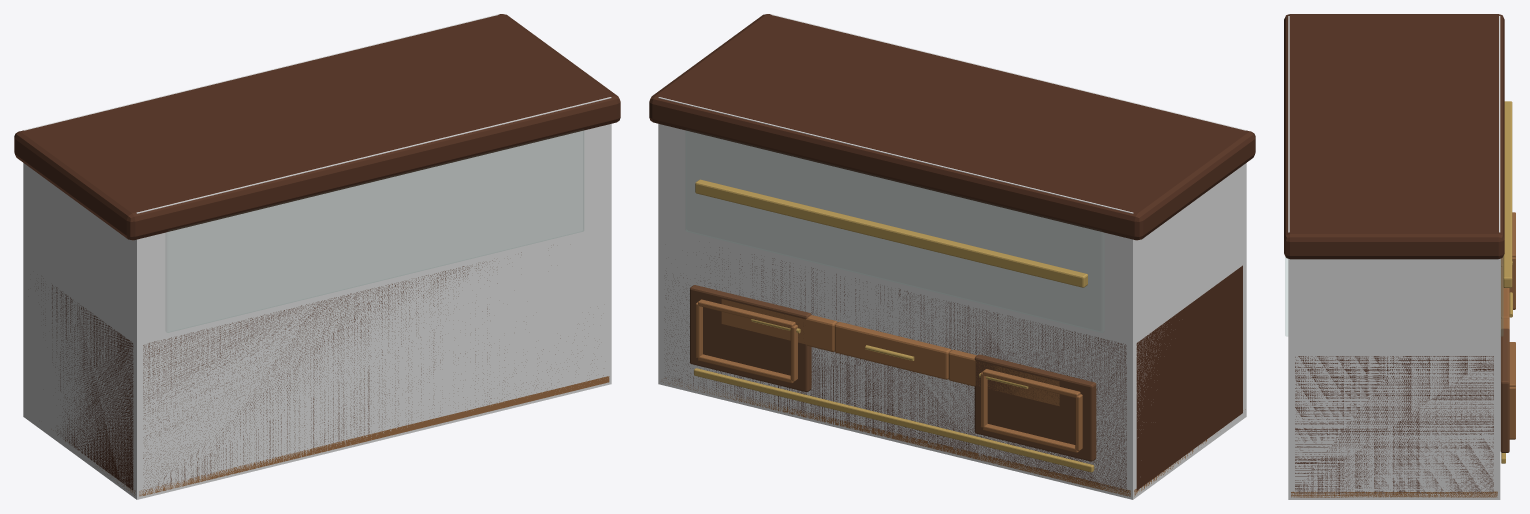
The model's file is executive.glb.
3 renders of one model, left to right at view 1: azimuth 30°, elevation 25°; view 2: azimuth 150°, elevation 25°; view 3: azimuth 270°, elevation 25°, orthographic. The views are drawn at different scales.
Visible parts, largest first — view 1: COL_JEWELRY_CASES_EXECUTIVE, Showcase_Cornice, Showcase_Plinth.006, Showcase_SteppedPlinth, Showcase_GlassBack.004; view 2: COL_JEWELRY_CASES_EXECUTIVE, Showcase_Cornice, Showcase_Plinth.006, Showcase_BaseDoor, Showcase_BaseDoor.001, Showcase_LockingRail, Jewelry_Drawer_2.001, Showcase_BrassToeKick.001, Showcase_SteppedPlinth, Jewelry_Drawer_3, Jewelry_Drawer_1.002, Showcase_BaseDoorPanel_Top.001 (+4 smaller); view 3: Showcase_Cornice, COL_JEWELRY_CASES_EXECUTIVE, Showcase_Plinth.006, Showcase_LockingRail, Showcase_BaseDoor.001, Showcase_SteppedPlinth, Jewelry_Drawer_2.001, Showcase_BaseDoorPanel_Right.001, Showcase_BaseDoorPanel_Top.001, Showcase_GlassFront.004.
Part boxes in pixels (x1,y1,x2,y2): COL_JEWELRY_CASES_EXECUTIVE: (23,14,611,499); Showcase_Cornice: (14,14,620,240); Showcase_Plinth.006: (38,252,603,490); Showcase_SteppedPlinth: (51,376,609,496); Showcase_GlassBack.004: (167,130,583,332); COL_JEWELRY_CASES_EXECUTIVE: (658,14,1246,499); Showcase_Cornice: (649,14,1255,240); Showcase_Plinth.006: (664,247,1242,491); Showcase_BaseDoor: (974,354,1096,461); Showcase_BaseDoor.001: (690,285,811,391); Showcase_LockingRail: (695,179,1087,287); Jewelry_Drawer_2.001: (834,322,951,379); Showcase_BrassToeKick.001: (694,368,1094,472); Showcase_SteppedPlinth: (661,378,1245,496); Jewelry_Drawer_3: (721,299,837,351); Jewelry_Drawer_1.002: (948,349,1059,406); Showcase_BaseDoorPanel_Top.001: (698,299,795,328); Showcase_Cornice: (1284,14,1504,259); COL_JEWELRY_CASES_EXECUTIVE: (1288,16,1500,499); Showcase_Plinth.006: (1295,356,1493,493); Showcase_LockingRail: (1503,101,1512,287); Showcase_BaseDoor.001: (1500,328,1509,452); Showcase_SteppedPlinth: (1291,491,1497,497); Jewelry_Drawer_2.001: (1500,266,1509,319); Showcase_BaseDoorPanel_Right.001: (1509,387,1515,438); Showcase_BaseDoorPanel_Top.001: (1509,342,1515,386); Showcase_GlassFront.004: (1500,258,1503,336).
Size of the model in its own units: 2.02 by 1.12 by 0.8811.
